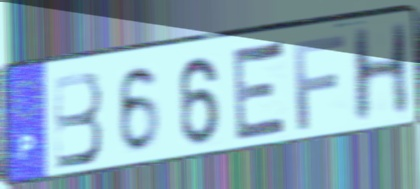6: (116, 63, 163, 157), (177, 52, 222, 149)
B: (51, 68, 106, 173)
E: (231, 37, 290, 147)
F: (291, 31, 348, 134)
H: (348, 19, 412, 129)
